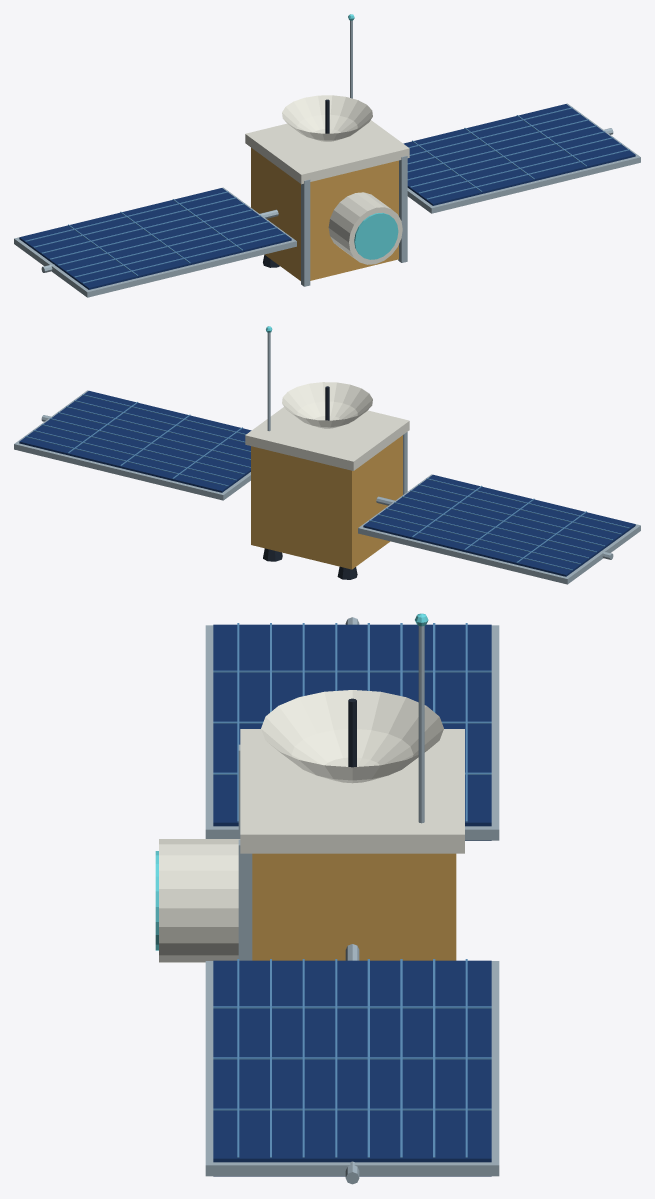
Rendered from 02_ResearchSatellite.obj.
3 renders of one model, top to bottom at view 1: azimuth 30°, elevation 25°; view 2: azimuth 150°, elevation 25°; view 3: azimuth 270°, elevation 25°, orthographic. The views are drawn at different scales.
Parts seen in each view (by area): view 1: Left_SolarArray_cells, Right_SolarArray_cells, Avionics, Top_thermal, High_gain_dish, Left_SolarArray_frame, Optical_telescope, Right_SolarArray_frame, Optical_lens, Corner_rail__0_65, Corner_rail_0_65; view 2: Avionics, Left_SolarArray_cells, Right_SolarArray_cells, Top_thermal, High_gain_dish, Left_SolarArray_frame, Right_SolarArray_frame, Antenna; view 3: Right_SolarArray_cells, Left_SolarArray_cells, Avionics, Top_thermal, High_gain_dish, Optical_telescope, Right_SolarArray_frame, Left_SolarArray_frame, Corner_rail_0_65, Antenna, Right_SolarArray_bus_1, Right_SolarArray_bus_2 (+1 smaller).
Boxes of the visible parts, x1=… form: Left_SolarArray_cells: x1=19, y1=188, x2=291, y2=289; Right_SolarArray_cells: x1=403, y1=104, x2=635, y2=205; Avionics: x1=251, y1=147, x2=398, y2=280; Top_thermal: x1=245, y1=120, x2=409, y2=184; High_gain_dish: x1=282, y1=95, x2=372, y2=141; Left_SolarArray_frame: x1=14, y1=187, x2=296, y2=297; Optical_telescope: x1=328, y1=192, x2=402, y2=264; Right_SolarArray_frame: x1=407, y1=103, x2=640, y2=213; Optical_lens: x1=354, y1=212, x2=398, y2=259; Corner_rail__0_65: x1=301, y1=179, x2=310, y2=286; Corner_rail_0_65: x1=398, y1=156, x2=407, y2=262; Avionics: x1=251, y1=435, x2=402, y2=569; Left_SolarArray_cells: x1=363, y1=474, x2=635, y2=576; Right_SolarArray_cells: x1=19, y1=391, x2=251, y2=492; Top_thermal: x1=245, y1=407, x2=409, y2=470; High_gain_dish: x1=282, y1=382, x2=372, y2=428; Left_SolarArray_frame: x1=358, y1=474, x2=640, y2=584; Right_SolarArray_frame: x1=14, y1=390, x2=250, y2=500; Antenna: x1=267, y1=332, x2=270, y2=431; Right_SolarArray_cells: x1=213, y1=960, x2=491, y2=1162; Left_SolarArray_cells: x1=213, y1=624, x2=491, y2=826; Avionics: x1=252, y1=853, x2=456, y2=960; Top_thermal: x1=240, y1=729, x2=464, y2=853; High_gain_dish: x1=261, y1=690, x2=443, y2=783; Optical_telescope: x1=159, y1=839, x2=240, y2=962; Right_SolarArray_frame: x1=205, y1=961, x2=499, y2=1176; Left_SolarArray_frame: x1=205, y1=625, x2=499, y2=840; Corner_rail_0_65: x1=238, y1=839, x2=252, y2=960; Antenna: x1=418, y1=626, x2=424, y2=823; Right_SolarArray_bus_1: x1=213, y1=1006, x2=491, y2=1008; Right_SolarArray_bus_2: x1=213, y1=1057, x2=491, y2=1059.
Bounding box in the file's own units: 7.6 × 2.94 × 1.99.
